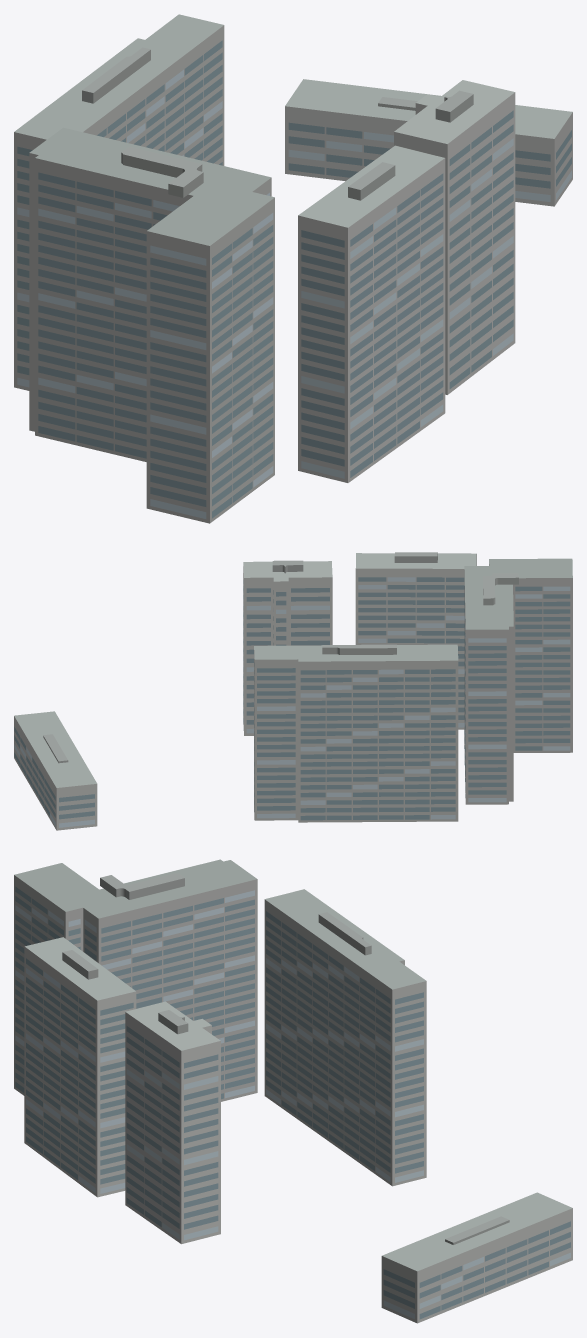
Rendered from apt-a13113003.glb.
3 renders of one model, top to bottom at view 1: azimuth 30°, elevation 25°; view 2: azimuth 150°, elevation 25°; view 3: azimuth 270°, elevation 25°, orthographic. The views are drawn at different scales.
Visible parts, largest first — view 1: apt-a13113003; view 2: apt-a13113003; view 3: apt-a13113003.
Boxes of the visible parts, <box> form: apt-a13113003: <box>14,14,572,523</box>; apt-a13113003: <box>14,552,572,830</box>; apt-a13113003: <box>14,859,572,1323</box>.
Size of the model in its own units: 157 by 65 by 148.
